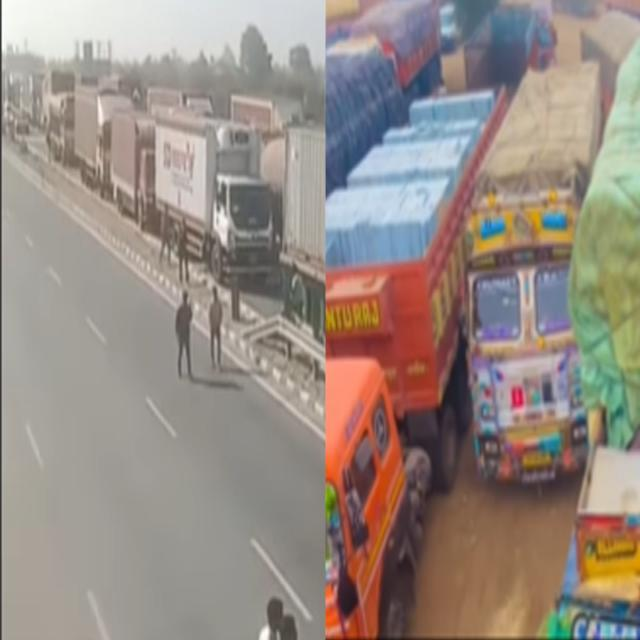truck: (325, 89, 508, 638), (466, 64, 599, 483), (155, 118, 274, 279)
